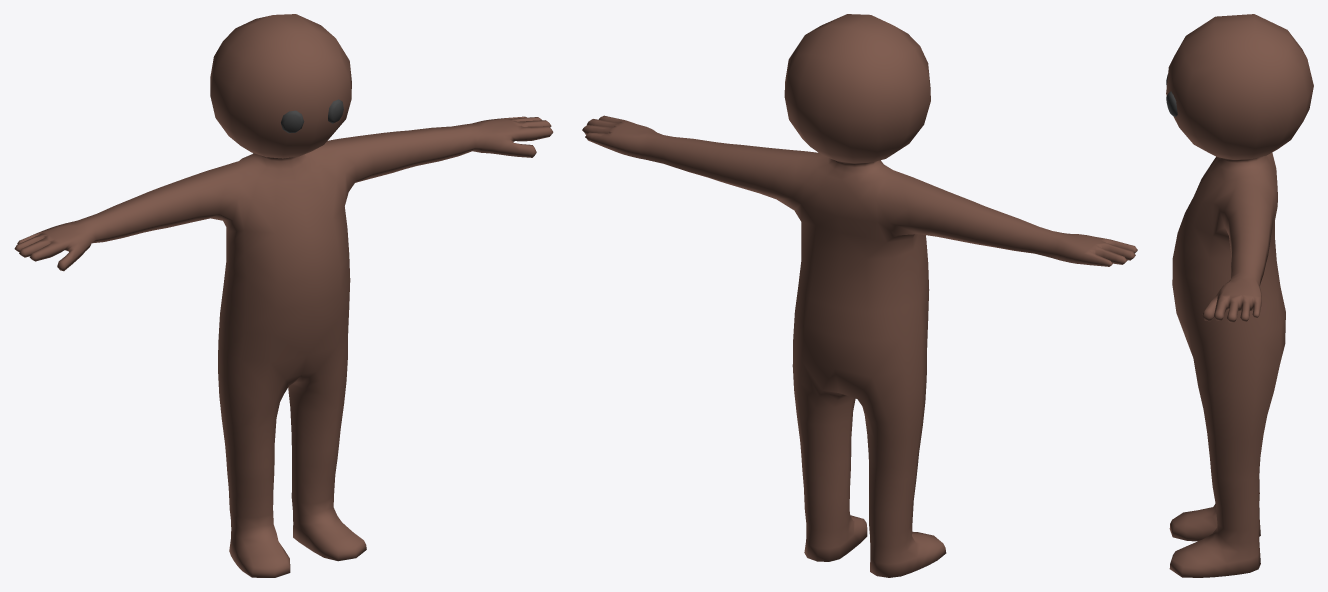
Rendered from Body_Brown_001.glb.
3 views of the same model, side by side, from view 1: azimuth 30°, elevation 25°; view 2: azimuth 150°, elevation 25°; view 3: azimuth 270°, elevation 25° (orthographic). The views are drawn at different scales.
Visible parts, largest first — view 1: Body_Brown_001; view 2: Body_Brown_001; view 3: Body_Brown_001.
Boxes of the visible parts, x1,y1,x2,y2 form: Body_Brown_001: (14, 14, 553, 577); Body_Brown_001: (582, 14, 1137, 577); Body_Brown_001: (1166, 14, 1313, 577).
Bounding box in the file's own units: 1.82 × 1.71 × 0.4335.
1 material, 1 textured.
